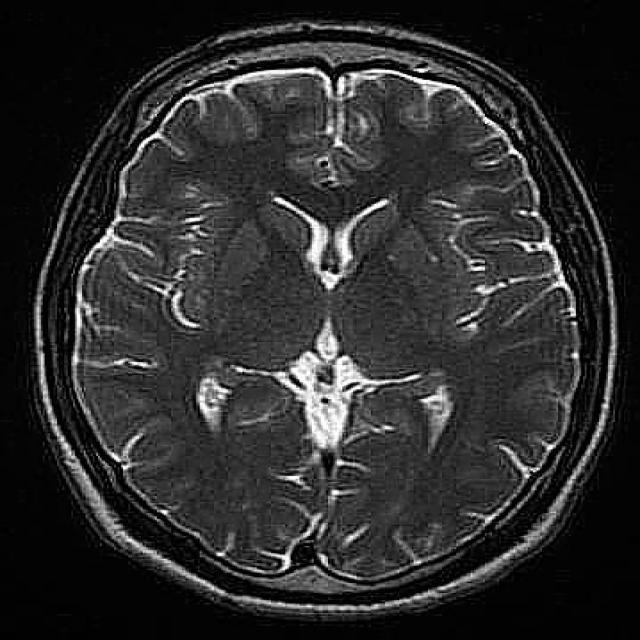notumor: (37, 21, 615, 617)
